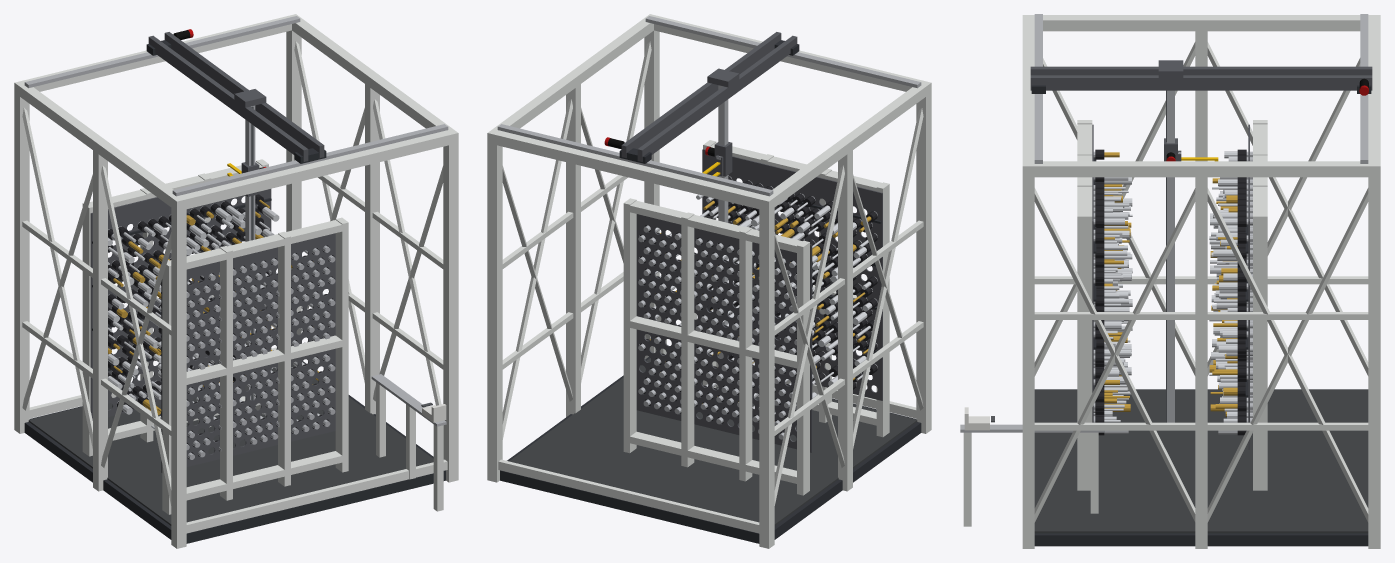
Rendered from central_tool_room.glb.
3 renders of one model, left to right at view 1: azimuth 30°, elevation 25°; view 2: azimuth 150°, elevation 25°; view 3: azimuth 270°, elevation 25°, orthographic. The views are drawn at different scales.
Parts seen in each view (by area): view 1: ctr_frame__truss_white, ctr_frame__anthracite_lt, ctr_frame__grating, ctr_tools__steel, ctr_tools__holder, ctr_frame__anthracite, ctr_carriage__anthracite_lt, ctr_tools__tool_bright, ctr_frame__steel, ctr_tools__tool_gold, ctr_yslide__steel; view 2: ctr_frame__truss_white, ctr_frame__anthracite_lt, ctr_frame__grating, ctr_tools__steel, ctr_tools__holder, ctr_frame__anthracite, ctr_carriage__anthracite_lt, ctr_frame__steel, ctr_tools__tool_bright, ctr_tools__tool_gold, ctr_yslide__steel; view 3: ctr_frame__truss_white, ctr_frame__grating, ctr_tools__tool_bright, ctr_carriage__anthracite_lt, ctr_frame__anthracite, ctr_tools__holder, ctr_frame__steel, ctr_tools__tool_gold, ctr_yslide__steel, ctr_tools__steel, ctr_frame__anthracite_lt.
Boxes of the visible parts, bbox=[...] form: ctr_frame__truss_white: bbox=[14, 14, 458, 548]; ctr_frame__anthracite_lt: bbox=[90, 189, 335, 472]; ctr_frame__grating: bbox=[28, 363, 433, 525]; ctr_tools__steel: bbox=[108, 201, 335, 459]; ctr_tools__holder: bbox=[108, 194, 333, 459]; ctr_frame__anthracite: bbox=[24, 198, 445, 543]; ctr_carriage__anthracite_lt: bbox=[148, 32, 324, 161]; ctr_tools__tool_bright: bbox=[108, 205, 324, 441]; ctr_frame__steel: bbox=[24, 16, 448, 426]; ctr_tools__tool_gold: bbox=[108, 199, 318, 415]; ctr_yslide__steel: bbox=[245, 105, 255, 408]; ctr_frame__truss_white: bbox=[487, 14, 931, 548]; ctr_frame__anthracite_lt: bbox=[636, 149, 882, 452]; ctr_frame__grating: bbox=[509, 358, 917, 525]; ctr_tools__steel: bbox=[638, 176, 877, 439]; ctr_tools__holder: bbox=[639, 176, 877, 433]; ctr_frame__anthracite: bbox=[500, 199, 921, 543]; ctr_carriage__anthracite_lt: bbox=[621, 32, 797, 161]; ctr_frame__steel: bbox=[497, 16, 921, 196]; ctr_tools__tool_bright: bbox=[653, 194, 872, 428]; ctr_tools__tool_gold: bbox=[650, 200, 871, 403]; ctr_yslide__steel: bbox=[718, 85, 728, 387]; ctr_frame__truss_white: bbox=[963, 15, 1380, 548]; ctr_frame__grating: bbox=[1034, 389, 1368, 533]; ctr_tools__tool_bright: bbox=[1104, 151, 1237, 434]; ctr_carriage__anthracite_lt: bbox=[1030, 66, 1372, 90]; ctr_frame__anthracite: bbox=[1034, 158, 1368, 546]; ctr_tools__holder: bbox=[1095, 149, 1246, 435]; ctr_frame__steel: bbox=[960, 14, 1368, 432]; ctr_tools__tool_gold: bbox=[1104, 152, 1237, 416]; ctr_yslide__steel: bbox=[1167, 90, 1174, 422]; ctr_tools__steel: bbox=[1093, 151, 1252, 433]; ctr_frame__anthracite_lt: bbox=[1092, 124, 1249, 449].
Bounding box in the file's own units: 3.52 × 4.42 × 4.13.
